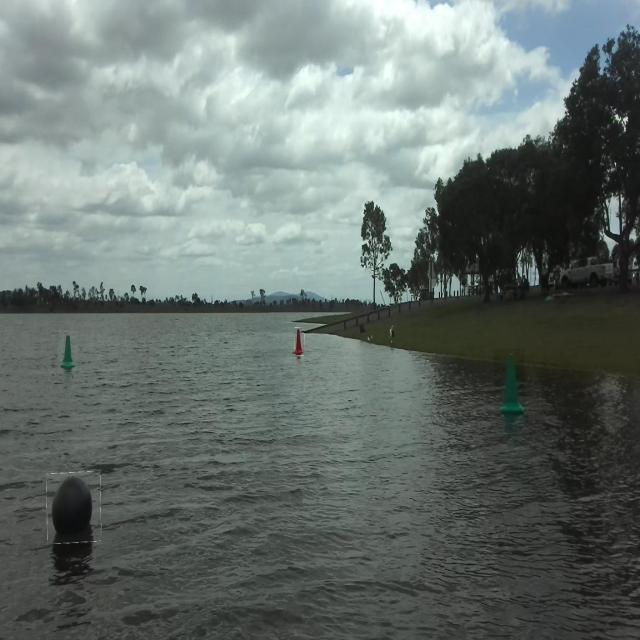Black_Buoy: (48, 472, 103, 552)
Green_Buoy: (502, 348, 528, 428), (60, 328, 82, 374)
Red_Buoy: (292, 322, 310, 364)
